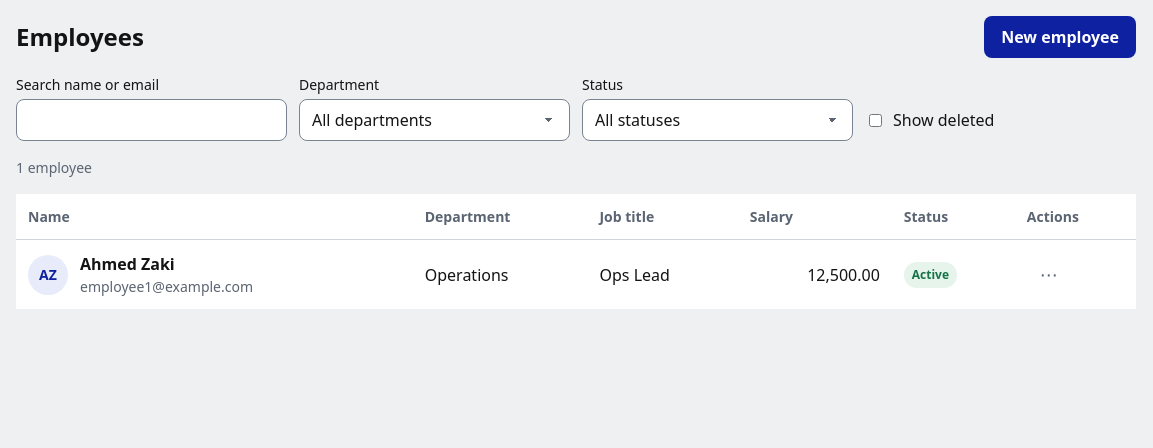
Test: Employee drawer - opening (edge cases 1, 2, 14) › adds Edit to the menu of active rows
Expected: the table is shown, [16,194,1136,309]
What coordinates should you click on to do the following:
click the button named "Actions for Ahmed Zaki"
I would click on:
 (1049, 274)
Its box is [1027,256,1071,293].
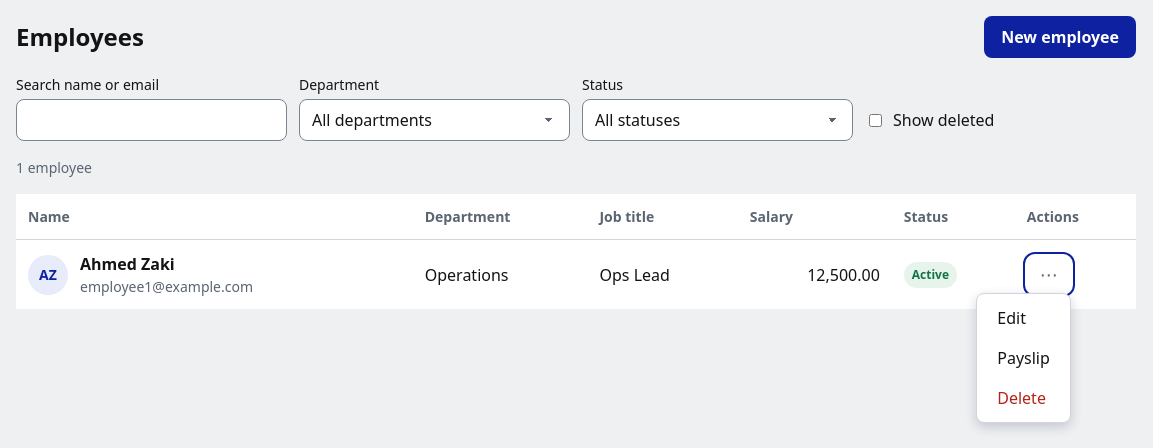
Expected: the menu item "Edit" is shown, [981,298,1066,338]
